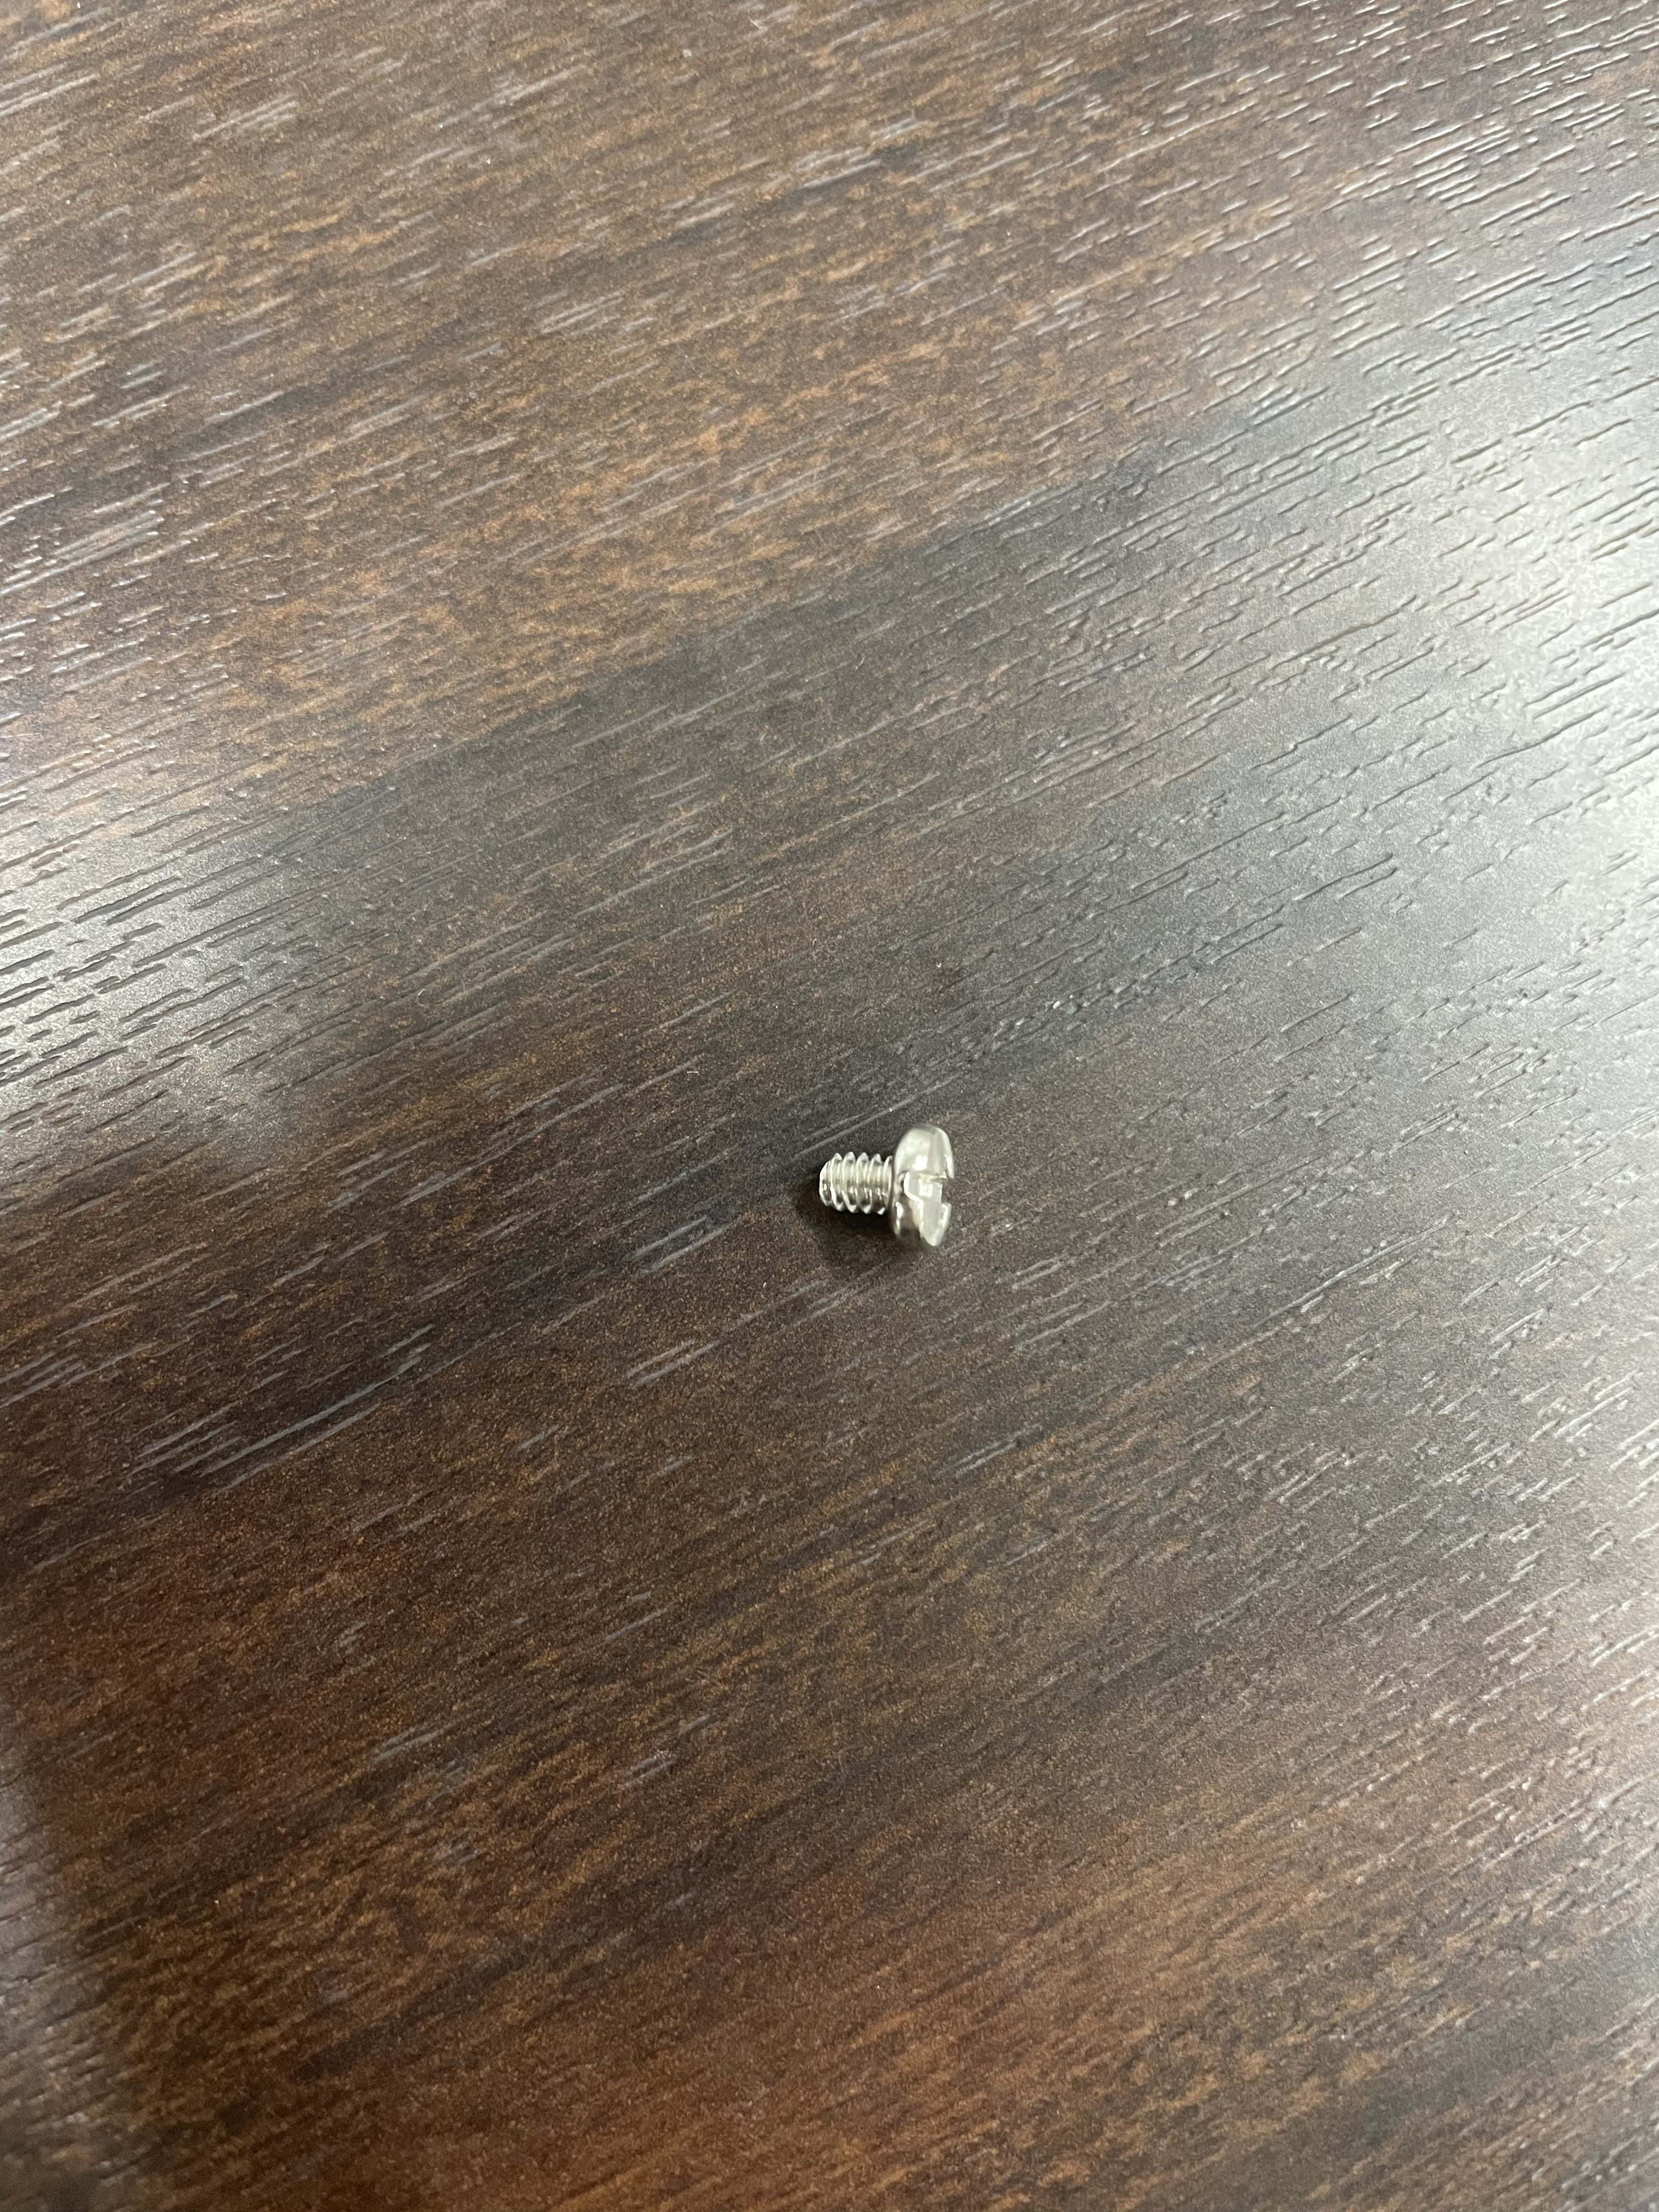screw4: (818, 1123, 963, 1262)
